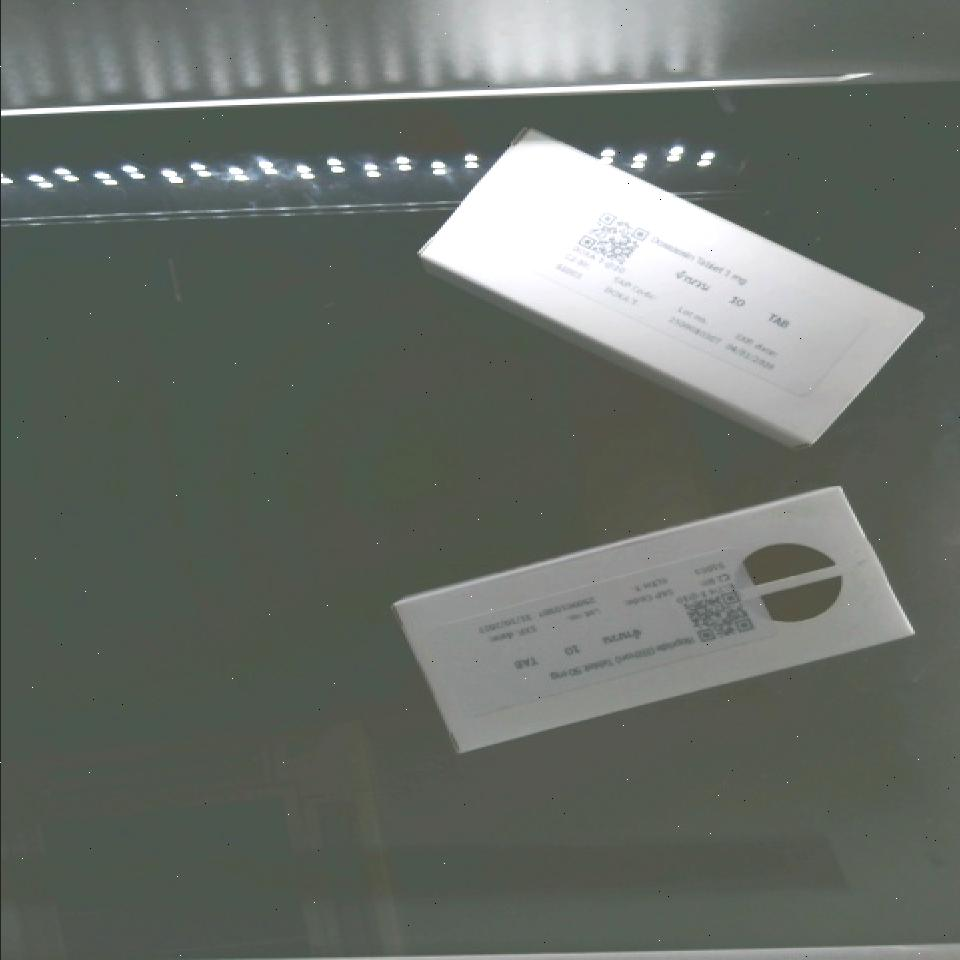medicine_box: (420, 111, 926, 466), (393, 477, 908, 759)
qr_code: (548, 189, 669, 294), (662, 563, 774, 659)
